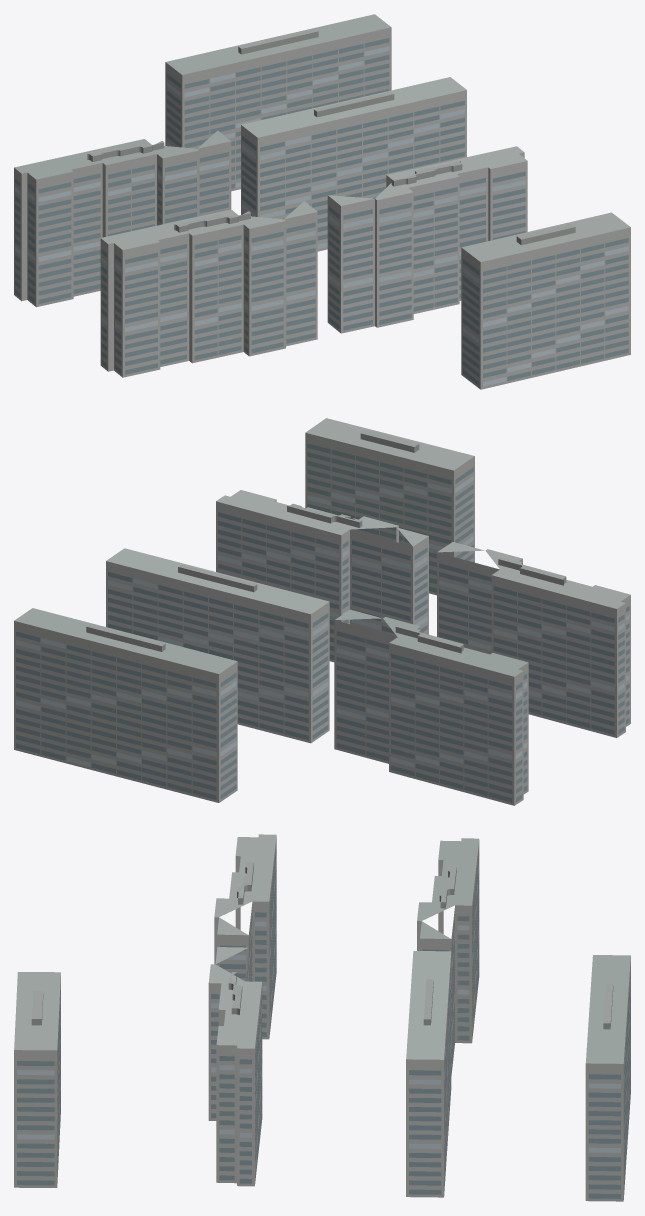
Rendered from apt-a13922406.glb.
3 views of the same model, one above another, from view 1: azimuth 30°, elevation 25°; view 2: azimuth 150°, elevation 25°; view 3: azimuth 270°, elevation 25° (orthographic). The views are drawn at different scales.
Parts seen in each view (by area): view 1: apt-a13922406; view 2: apt-a13922406; view 3: apt-a13922406.
Part boxes in pixels (x1,y1,x2,y2): apt-a13922406: (14,14,630,389); apt-a13922406: (14,418,630,805); apt-a13922406: (14,834,630,1201).
Size of the model in its own units: 164 by 47.81 by 186.
